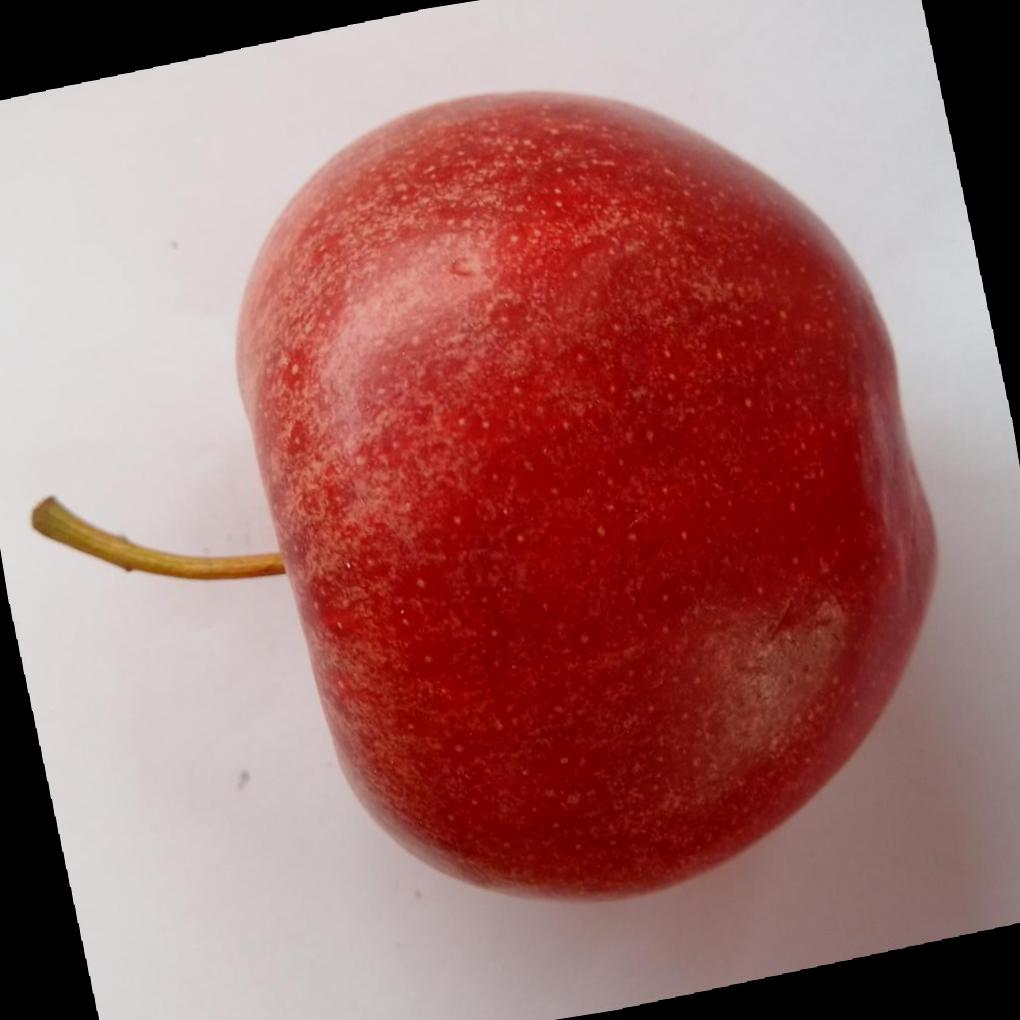FreshGuava: (235, 89, 943, 901)
